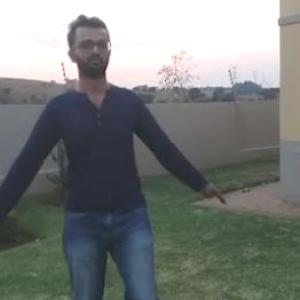land: (6, 31, 214, 299)
